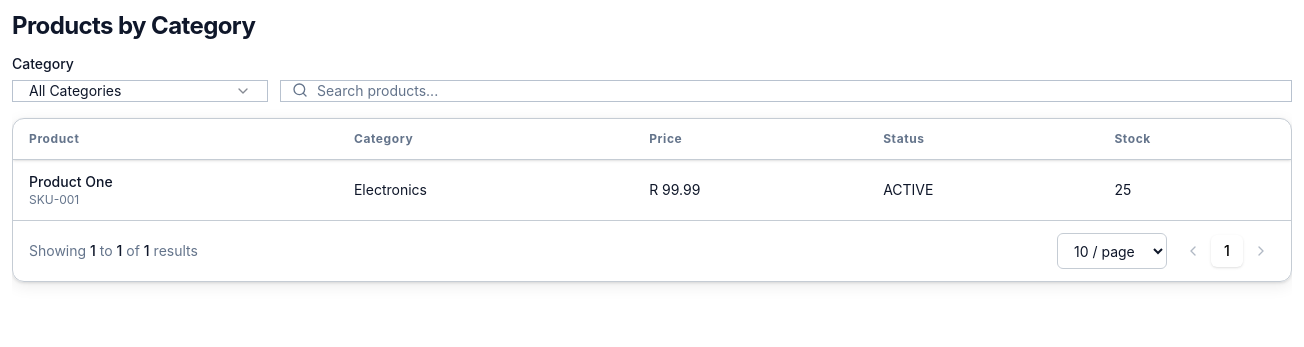
Test: ProductsByCategoryPage › shows selected category name as a label after selection
The image size is (1304, 347).
What coordinates should you click on to do the following:
click the button named "category"
I would click on:
 (140, 91)
Its box is [12,80,268,102].
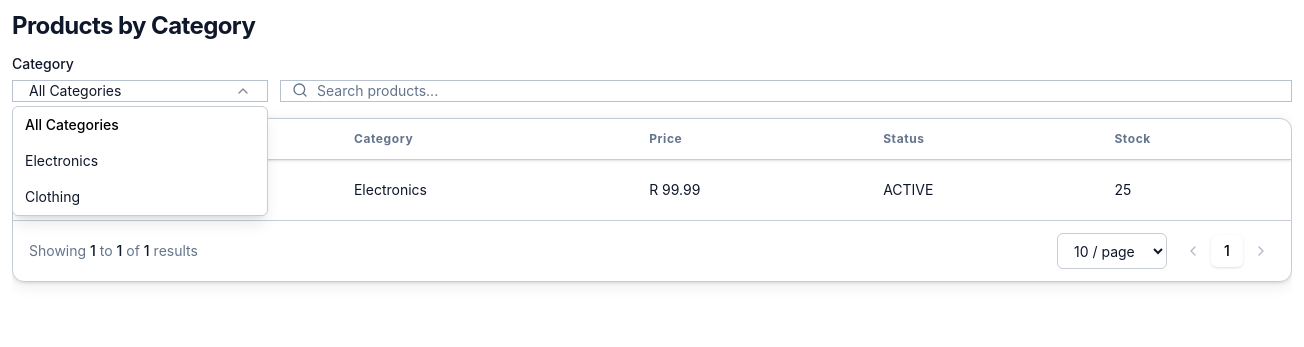
What coordinates should you click on to do the following:
click the option "Electronics"
I would click on:
 (62, 160)
Its box is [25,152,98,169].
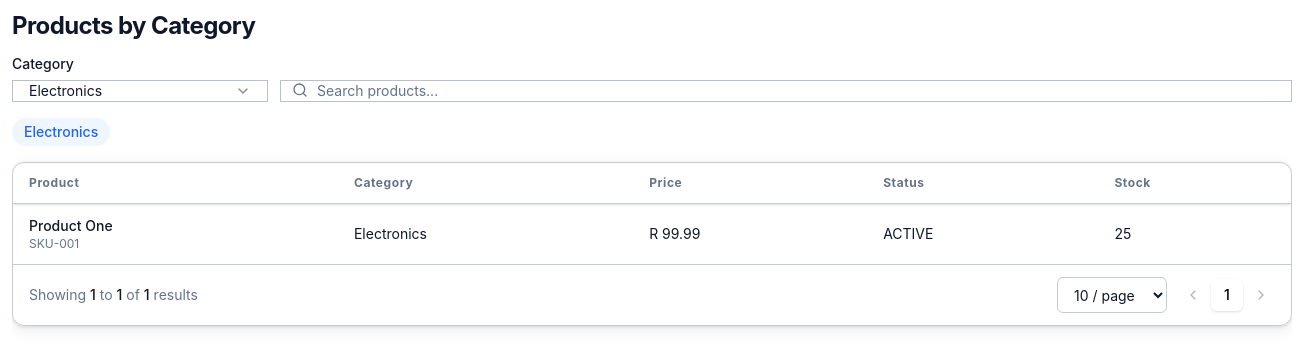
Now the 1st text with class "inline-flex" is shown, box [12,118,110,146]
